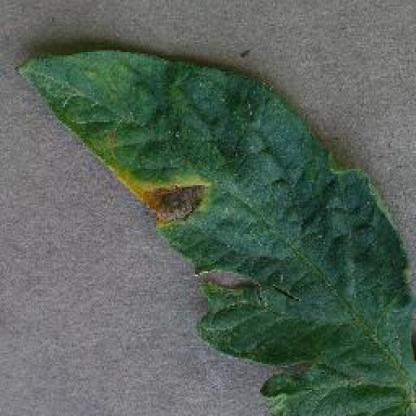Tomato_Blight: (15, 55, 416, 416)
